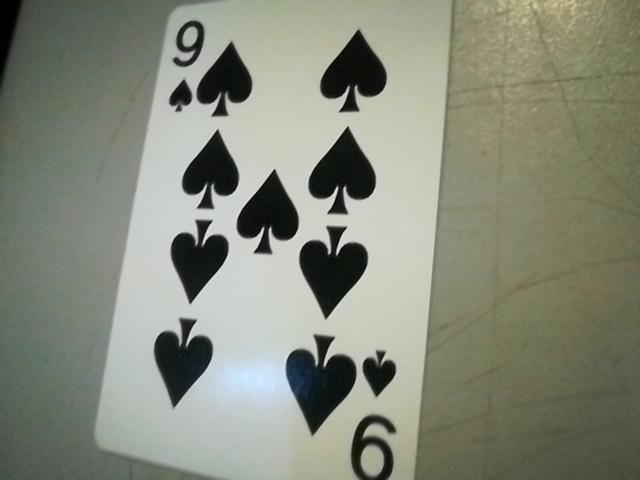ht 9: (344, 335, 416, 480), (158, 10, 217, 117)
